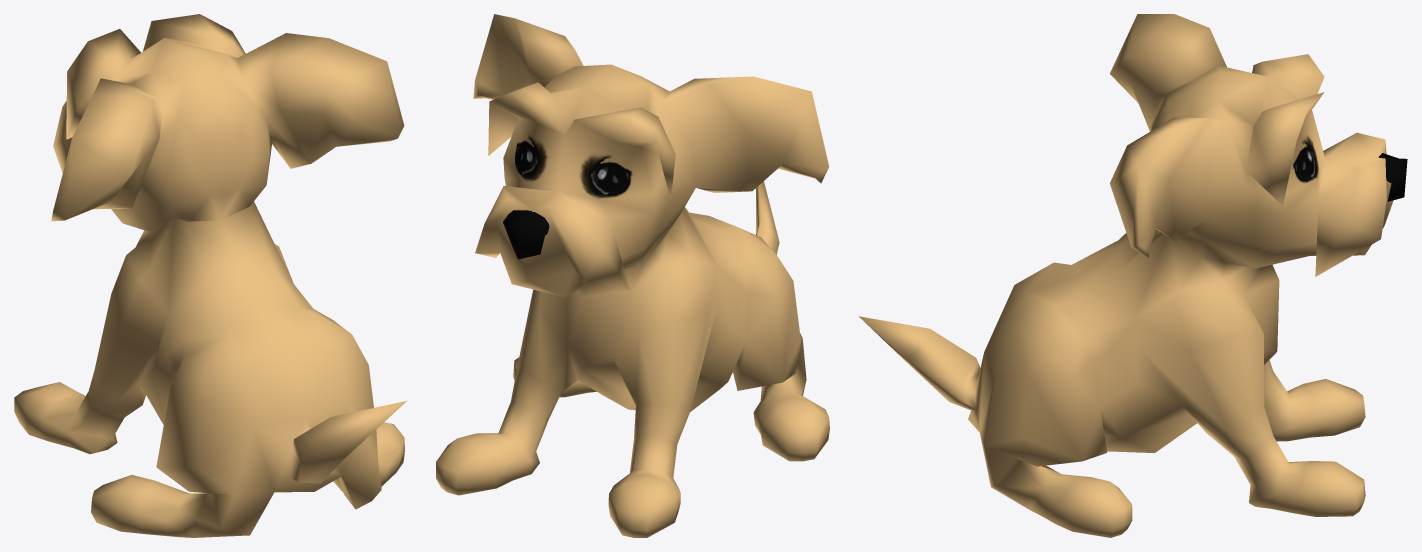
Rendered from dogger1.fbx.
The picture shows the model from 3 angles, left to right: view 1: azimuth 30°, elevation 25°; view 2: azimuth 150°, elevation 25°; view 3: azimuth 270°, elevation 25°; orthographic projection.
Parts seen in each view (by area): view 1: Cube.003; view 2: Cube.003, Cube.002; view 3: Cube.003, Cube.002.
Boxes of the visible parts, x1,y1,x2,y2 form: Cube.003: [14, 14, 407, 537]; Cube.003: [436, 14, 829, 537]; Cube.002: [503, 210, 549, 259]; Cube.003: [859, 14, 1393, 537]; Cube.002: [1378, 153, 1407, 201].
Bounding box in the file's own units: 424 × 459 × 575.
Materials: 3 (1 with a texture image).
